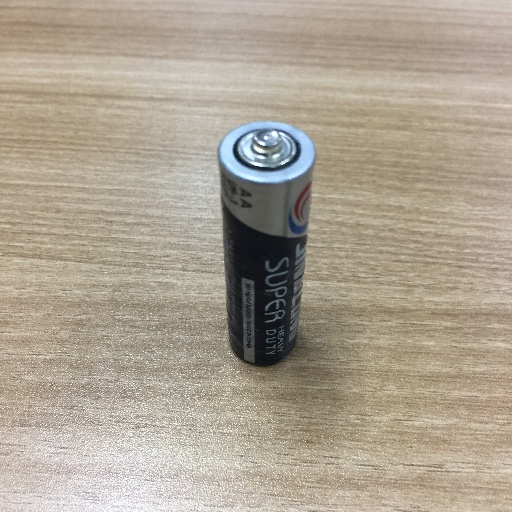Battery_0: (208, 111, 326, 377)
